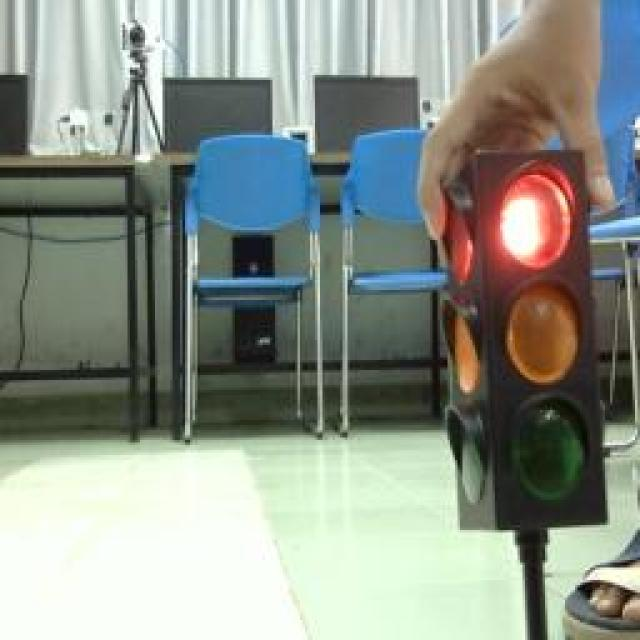-: (492, 159, 585, 274)
